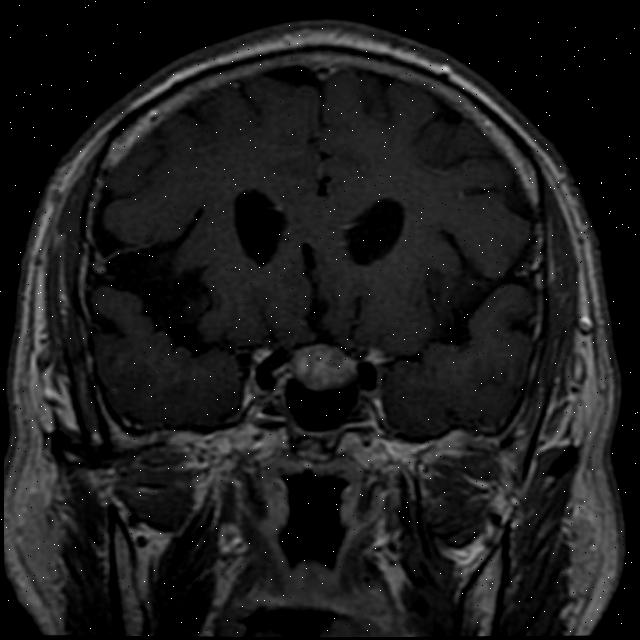Pituitary: (289, 338, 358, 392)
